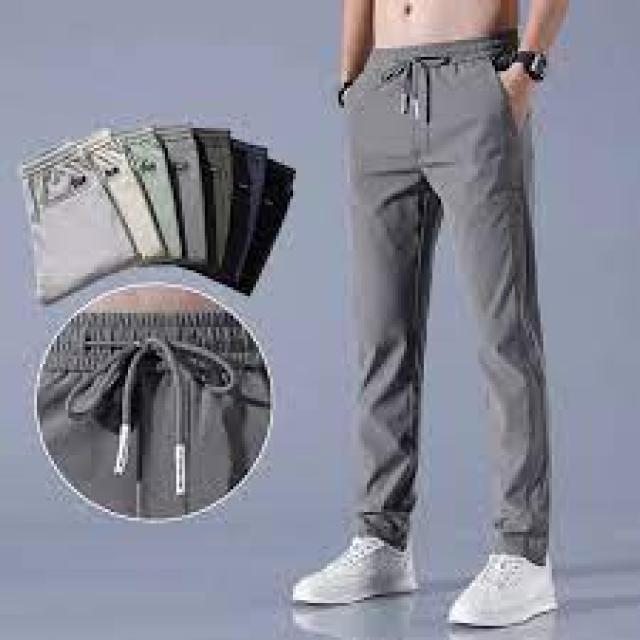long-pants: (348, 30, 549, 567)
